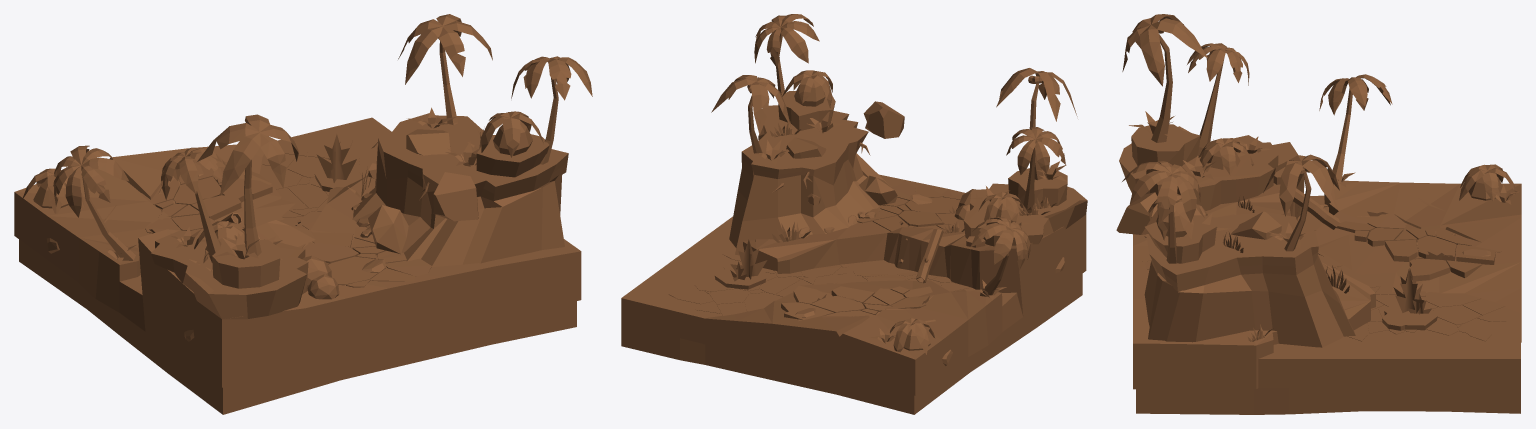
The model's file is polyperfect-eruption-base.fbx.
3 views of the same model, side by side, from view 1: azimuth 30°, elevation 25°; view 2: azimuth 150°, elevation 25°; view 3: azimuth 270°, elevation 25° (orthographic). The views are drawn at different scales.
Visible parts, largest first — view 1: polyperfect-eruption-base; view 2: polyperfect-eruption-base; view 3: polyperfect-eruption-base.
Boxes of the visible parts, box(x1,y1,x2,y2) form: polyperfect-eruption-base: box(14, 14, 592, 414); polyperfect-eruption-base: box(621, 14, 1087, 414); polyperfect-eruption-base: box(1116, 14, 1521, 414).
Bounding box in the file's own units: 23.88 × 14.51 × 20.85.
